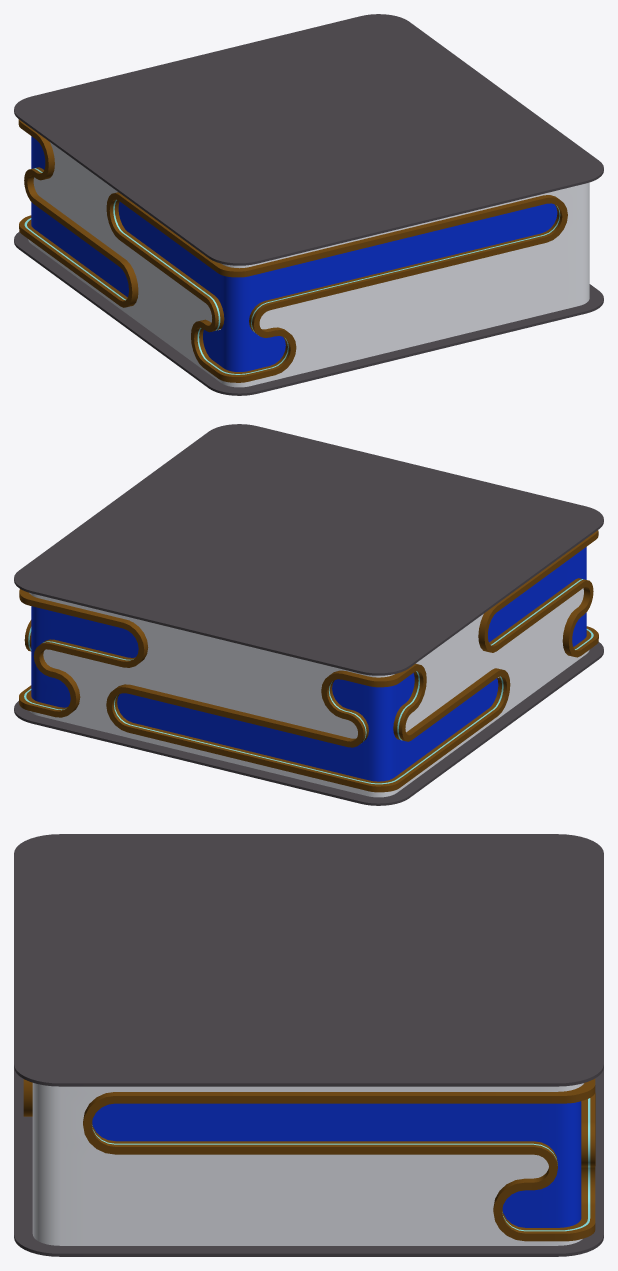
Rendered from SM_B_i4_roof.fbx.
3 views of the same model, one above another, from view 1: azimuth 30°, elevation 25°; view 2: azimuth 150°, elevation 25°; view 3: azimuth 270°, elevation 25° (orthographic). The views are drawn at different scales.
Visible parts, largest first — view 1: SM_B_i4_roof; view 2: SM_B_i4_roof; view 3: SM_B_i4_roof.
Boxes of the visible parts, left/top/right/bottom form: SM_B_i4_roof: left=14, top=14, right=603, bottom=395; SM_B_i4_roof: left=14, top=424, right=603, bottom=805; SM_B_i4_roof: left=14, top=834, right=603, bottom=1256.
Bounding box in the file's own units: 2100 × 681 × 2100.
